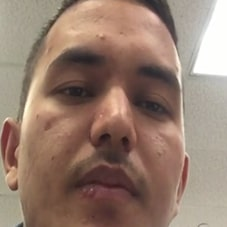drowsy: (44, 39, 185, 227)
